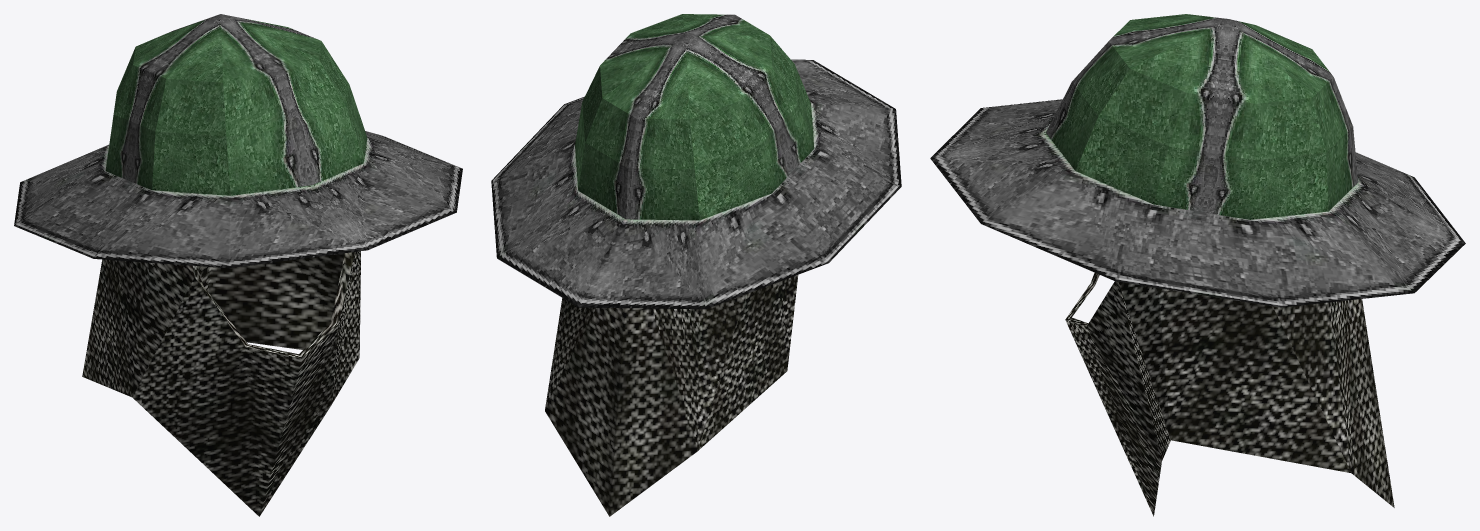
Rendered from KAPALIN_4.glb.
3 views of the same model, side by side, from view 1: azimuth 30°, elevation 25°; view 2: azimuth 150°, elevation 25°; view 3: azimuth 270°, elevation 25° (orthographic). The views are drawn at different scales.
Visible parts, largest first — view 1: KAPALIN_4; view 2: KAPALIN_4; view 3: KAPALIN_4.
Part boxes in pixels (box(x1,y1,x2,y2)): KAPALIN_4: box(14, 14, 462, 516); KAPALIN_4: box(491, 14, 901, 516); KAPALIN_4: box(930, 14, 1465, 516).
Size of the model in its own units: 0.3698 by 0.4565 by 0.4464.
Materials: 2 (2 with a texture image).
